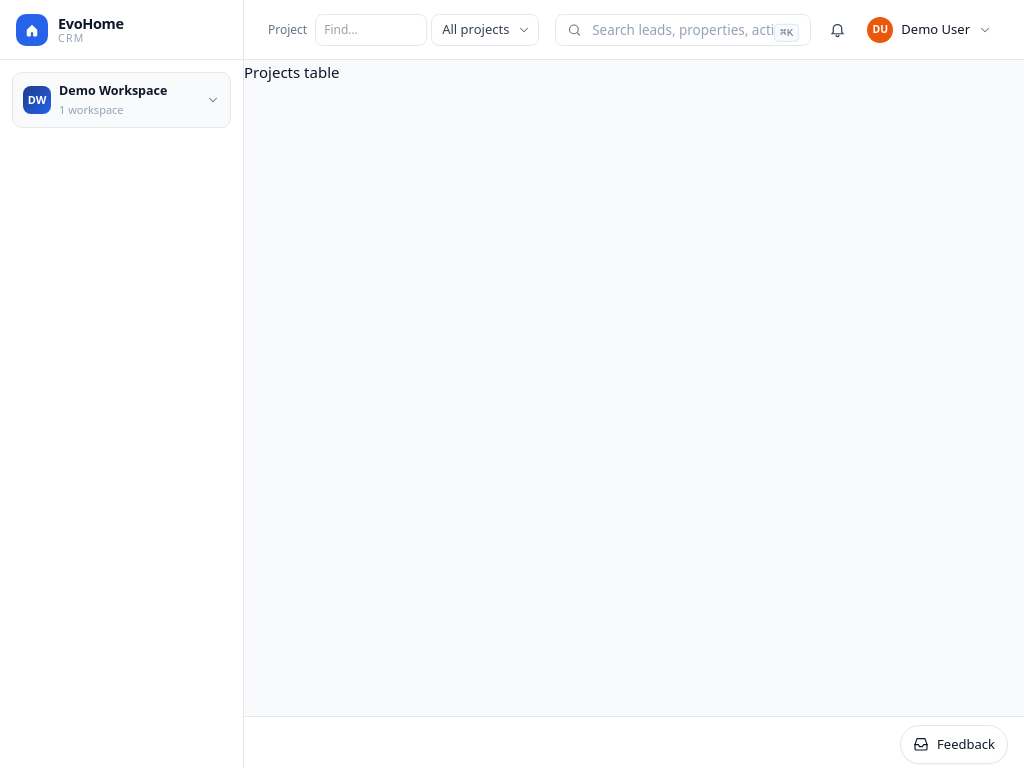
Test: feedback dock layout › opens the feedback modal from the dock without covering page chrome
The image size is (1024, 768).
What coordinates should you click on to do the following:
click the button with test id "feedback-trigger"
I would click on:
 (954, 744)
Its box is 900,725 -> 1008,764.
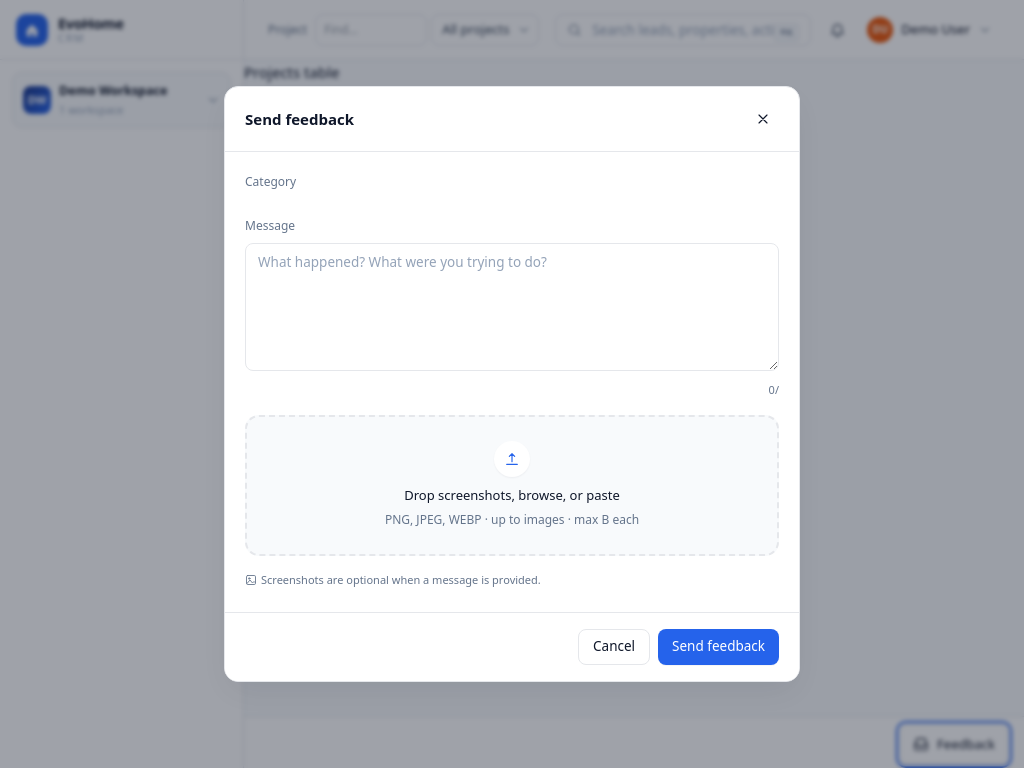
Check: the footer with test id "feedback-dock" is shown, box 244,716 -> 1023,767
Check: the dialog "Send feedback" is shown, box 224,86 -> 800,682
